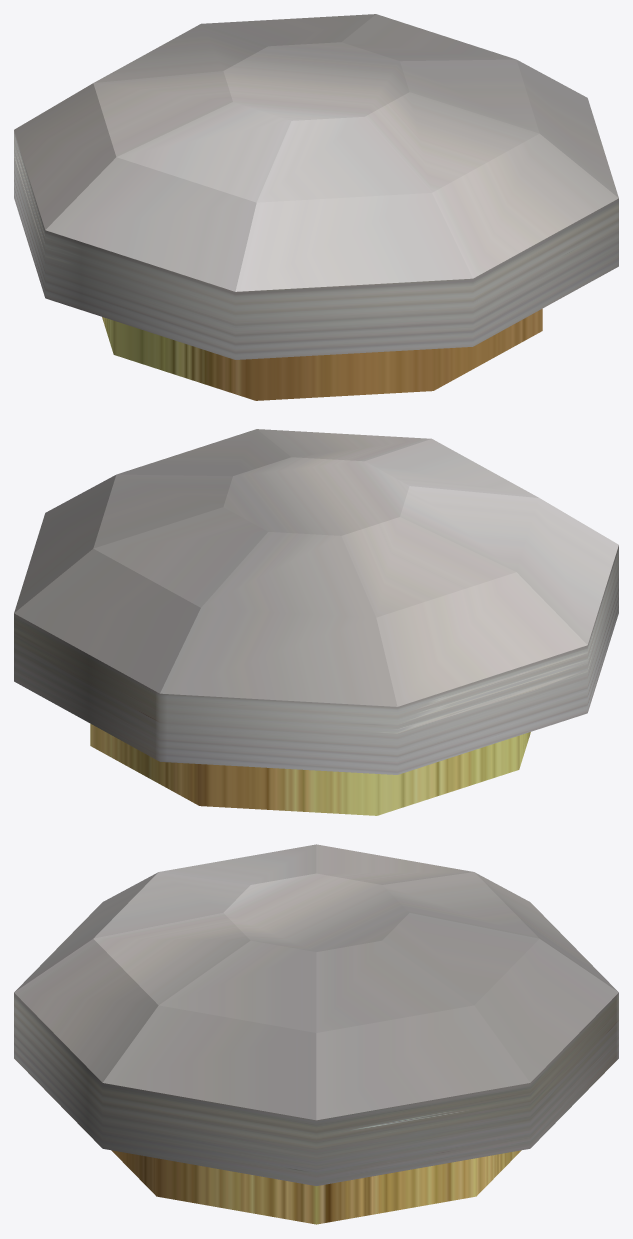
Rendered from lamp_ceiling.FBX.
3 renders of one model, top to bottom at view 1: azimuth 30°, elevation 25°; view 2: azimuth 150°, elevation 25°; view 3: azimuth 270°, elevation 25°, orthographic. The views are drawn at different scales.
Parts seen in each view (by area): view 1: Cylinder002, Cylinder001; view 2: Cylinder002, Cylinder001; view 3: Cylinder002, Cylinder001.
Part boxes in pixels (x1,y1,x2,y2): Cylinder002: (14, 14, 618, 359); Cylinder001: (102, 308, 542, 400); Cylinder002: (14, 429, 618, 774); Cylinder001: (90, 723, 530, 815); Cylinder002: (14, 844, 618, 1185); Cylinder001: (111, 1150, 521, 1224).
Size of the model in its own units: 49.13 by 19.37 by 49.13.
2 materials, 2 textured.
